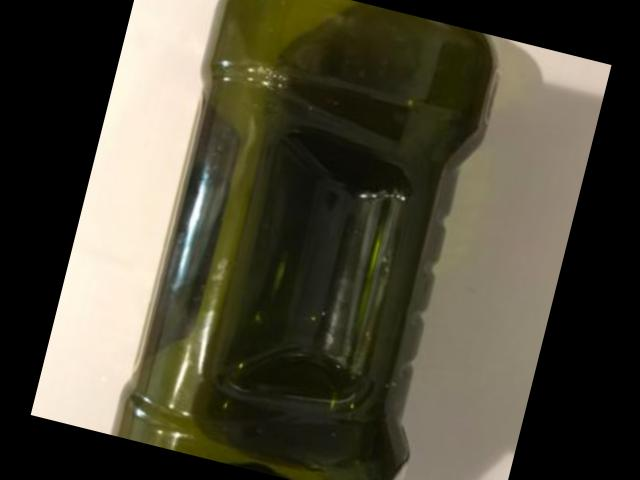plastic: (117, 0, 496, 480)
